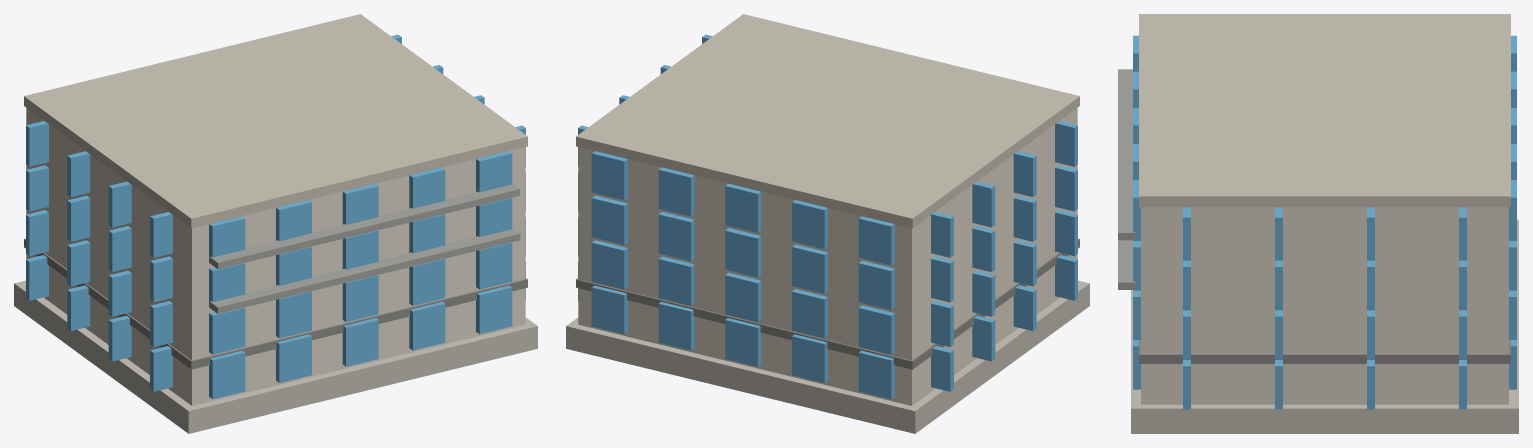
Rendered from res_sobrado.glb.
3 views of the same model, side by side, from view 1: azimuth 30°, elevation 25°; view 2: azimuth 150°, elevation 25°; view 3: azimuth 270°, elevation 25° (orthographic). The views are drawn at different scales.
Parts seen in each view (by area): view 1: res_sobrado; view 2: res_sobrado; view 3: res_sobrado.
Boxes of the visible parts, <box> form: res_sobrado: <box>14,14,537,433</box>; res_sobrado: <box>566,14,1089,433</box>; res_sobrado: <box>1118,14,1518,433</box>.
Size of the model in its own units: 0.48 by 0.26 by 0.403.
